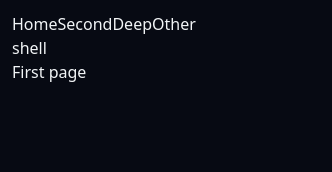
Test: RoutedPage › moves a deeper page in from the direction that reads as entering
Expected: the heading "First page" is shown, [12,61,86,83]
Click the link "Deep" at [132, 24], box [112,13,152,35]
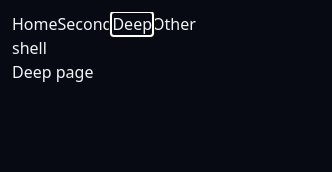
Expected: the heading "Deep page" is shown, [12,61,93,83]
